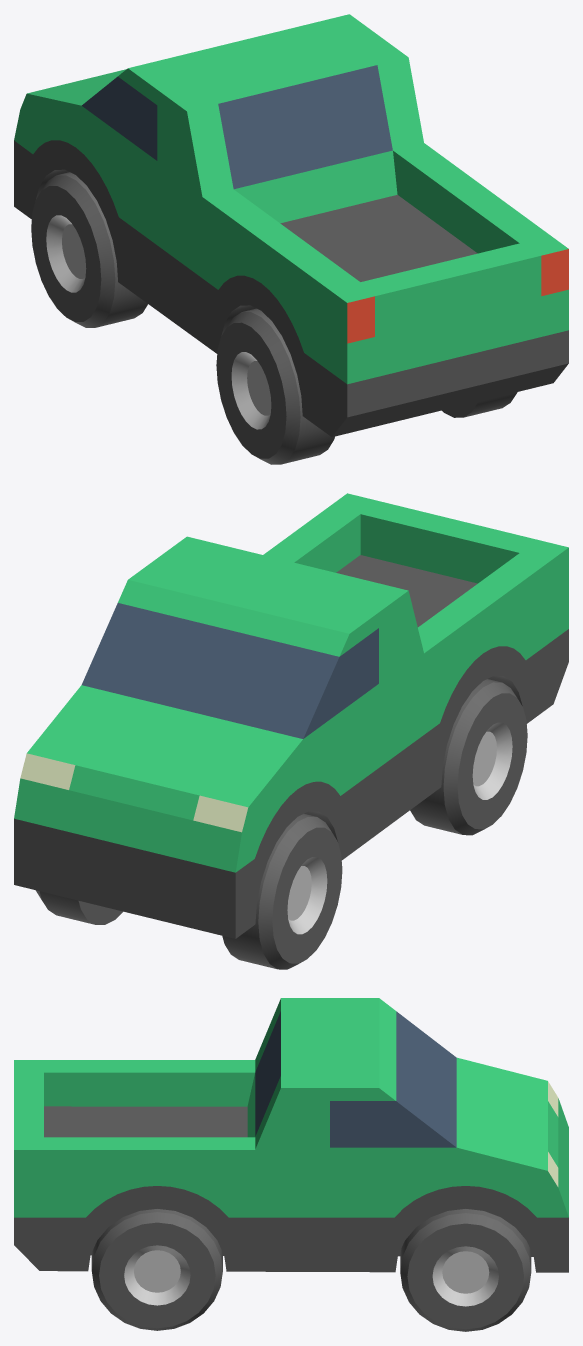
Rendered from carTruck.obj.
3 renders of one model, top to bottom at view 1: azimuth 30°, elevation 25°; view 2: azimuth 150°, elevation 25°; view 3: azimuth 270°, elevation 25°, orthographic. The views are drawn at different scales.
Parts seen in each view (by area): view 1: body 13, wheelBackLeft 13, wheelFrontLeft 13, wheelBackRight 13; view 2: body 13, wheelBackLeft 13, wheelFrontLeft 13, wheelFrontRight 13; view 3: body 13, wheelFrontRight 13, wheelBackRight 13.
Boxes of the visible parts, bbox=[...] form: body 13: bbox=[14, 14, 568, 436]; wheelBackLeft 13: bbox=[216, 308, 334, 464]; wheelFrontLeft 13: bbox=[31, 172, 147, 327]; wheelBackRight 13: bbox=[442, 392, 517, 417]; body 13: bbox=[14, 493, 568, 938]; wheelBackLeft 13: bbox=[410, 679, 527, 835]; wheelFrontLeft 13: bbox=[222, 814, 342, 969]; wheelFrontRight 13: bbox=[36, 890, 122, 924]; body 13: bbox=[14, 998, 568, 1272]; wheelFrontRight 13: bbox=[400, 1209, 531, 1331]; wheelBackRight 13: bbox=[91, 1209, 222, 1330].
Size of the model in its own units: 4.95 by 5.77 by 11.85.
